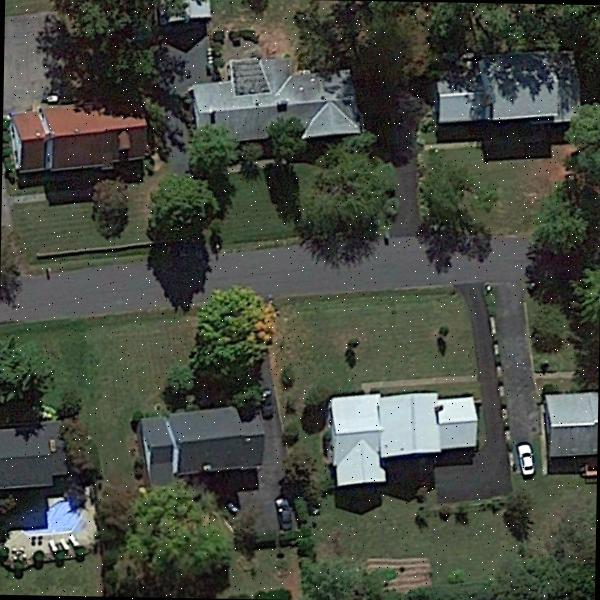Buildings: (198, 50, 364, 148), (332, 396, 473, 482), (7, 100, 154, 176), (428, 62, 556, 134), (137, 410, 267, 475), (0, 418, 74, 490), (548, 394, 598, 460)
